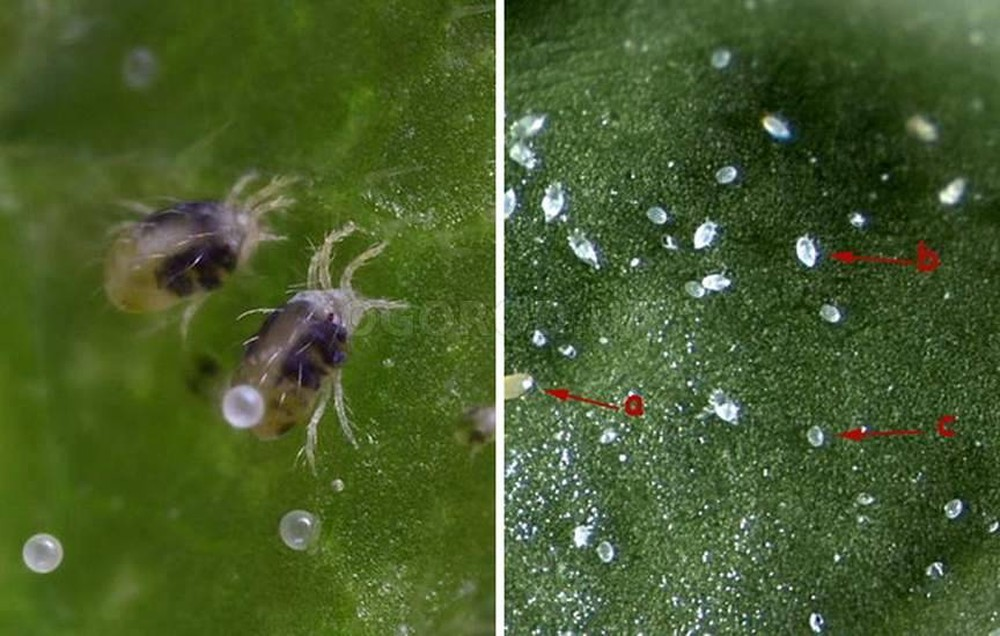Aracnido Rojo: (229, 224, 419, 474), (91, 162, 308, 345)
